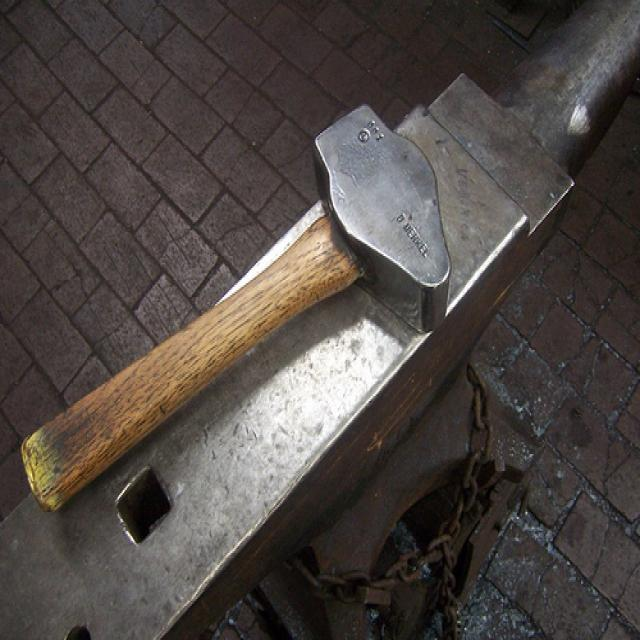hammer: (0, 71, 497, 528)
